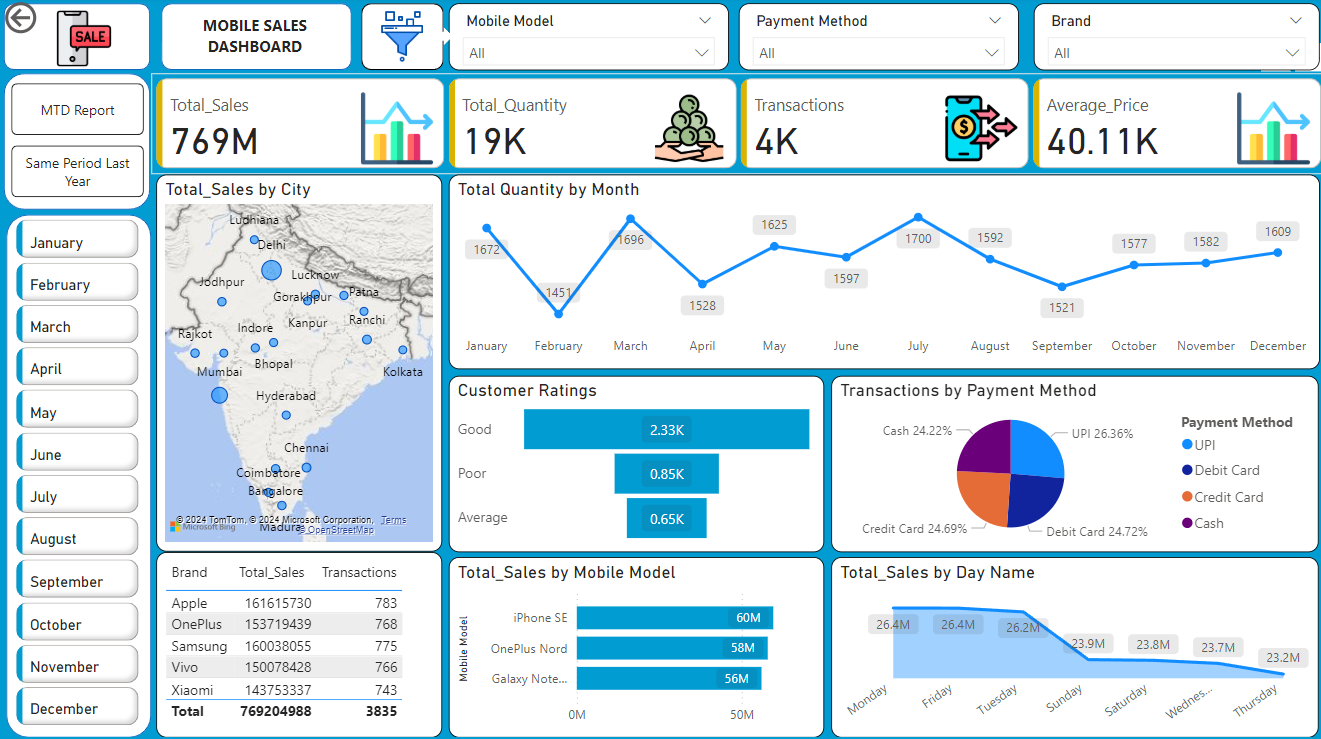

The dashboard page shown, as its layout file describes it:
{"tool":"powerbi","page":{"name":"Dashboard","canvas":[1280,720],"ordinal":0},"visuals":[{"type":"shape","box":[4.1,5.5,141.3,64.5],"z":0},{"type":"shape","box":[4.1,74.1,141.3,131.7],"z":1000},{"type":"shape","box":[5.5,209.9,140,505],"z":2000},{"type":"advancedSlicerVisual","fields":{"Values":["Custon_Calandar.Date.Variation.Date Hierarchy.Month"]},"box":[11,209.9,129,500.9],"z":3000},{"type":"cardVisual","fields":{"Data":["Sales_Data.Total_Sales","Sales_Data.Total_Quantity","Sales_Data.Transactions","Sales_Data.Average_Price"]},"box":[145.5,74.1,1134.8,97.4],"z":4000},{"type":"slicer","fields":{"Values":["Sales_Data.Mobile Model"]},"box":[433.6,5.5,270.3,64.5],"z":5000},{"type":"shape","box":[348.5,5.5,79.6,64.5],"z":6000},{"type":"slicer","fields":{"Values":["Sales_Data.Payment Method"]},"box":[713.6,5.5,270.3,64.5],"z":7000},{"type":"slicer","fields":{"Values":["Sales_Data.Brand"]},"box":[997.6,5.5,275.8,64.5],"z":8000},{"type":"image","box":[321.1,8.2,134.5,59],"z":9000},{"type":"shape","box":[414.4,28.8,23.3,17.8],"z":10000},{"type":"shape","box":[155.1,5.5,183.9,64.5],"z":11000},{"type":"textbox","box":[171.5,12.3,149.6,52.1],"z":12000},{"type":"map","fields":{"Category":["Sales_Data.City"],"Size":["Sales_Data.Total_Sales"]},"box":[150.9,171.5,275.8,363.6],"z":13000},{"type":"lineChart","title":"Total Quantity by Month","fields":{"Y":["Sales_Data.Total_Quantity"],"Category":["Custon_Calandar.Date.Variation.Date Hierarchy.Month"]},"box":[433.6,171.5,841.2,188],"z":14000},{"type":"funnel","title":"Customer Ratings","fields":{"Y":["CountNonNull(Sales_Data.Customer Ratings)"],"Category":["Sales_Data.Rating Status"]},"box":[433.6,365,362.3,170.2],"z":15000},{"type":"pieChart","fields":{"Y":["Sales_Data.Transactions"],"Category":["Sales_Data.Payment Method"]},"box":[802.7,365,470.7,170.2],"z":16000},{"type":"clusteredBarChart","fields":{"Y":["Sales_Data.Total_Sales"],"Category":["Sales_Data.Mobile Model"]},"box":[433.6,540.7,362.3,174.3],"z":17000},{"type":"areaChart","fields":{"Y":["Sales_Data.Total_Sales"],"Category":["Custon_Calandar.Day Name"]},"box":[802.7,540.7,470.7,174.3],"z":18000},{"type":"tableEx","fields":{"Values":["Sales_Data.Brand","Sales_Data.Total_Sales","Sales_Data.Transactions"]},"box":[151,536,276,179],"z":19000},{"type":"actionButton","box":[0,0,100,40],"z":20000},{"type":"pageNavigator","box":[11,83.7,129,111.1],"z":20001},{"type":"image","box":[49.4,8.2,63.1,63.1],"z":20002}]}

Visuals, with their boxes in screenshot pixels (x1, y1, x2, y2), scaled from the page's 1280x720 canvas onto the 1321x739 screenshot:
shape: (x1=4, y1=6, x2=150, y2=72)
shape: (x1=4, y1=76, x2=150, y2=211)
shape: (x1=6, y1=215, x2=150, y2=734)
advancedSlicerVisual - Custon_Calandar.Date.Variation.Date Hierarchy.Month: (x1=11, y1=215, x2=144, y2=730)
cardVisual - Sales_Data.Total_Sales x Sales_Data.Total_Quantity: (x1=150, y1=76, x2=1320, y2=176)
slicer - Sales_Data.Mobile Model: (x1=447, y1=6, x2=726, y2=72)
shape: (x1=360, y1=6, x2=442, y2=72)
slicer - Sales_Data.Payment Method: (x1=736, y1=6, x2=1015, y2=72)
slicer - Sales_Data.Brand: (x1=1030, y1=6, x2=1314, y2=72)
image: (x1=331, y1=8, x2=470, y2=69)
shape: (x1=428, y1=30, x2=452, y2=48)
shape: (x1=160, y1=6, x2=350, y2=72)
textbox: (x1=177, y1=13, x2=331, y2=66)
map - Sales_Data.City x Sales_Data.Total_Sales: (x1=156, y1=176, x2=440, y2=549)
"Total Quantity by Month" lineChart: (x1=447, y1=176, x2=1316, y2=369)
"Customer Ratings" funnel: (x1=447, y1=375, x2=821, y2=549)
pieChart - Sales_Data.Transactions x Sales_Data.Payment Method: (x1=828, y1=375, x2=1314, y2=549)
clusteredBarChart - Sales_Data.Total_Sales x Sales_Data.Mobile Model: (x1=447, y1=555, x2=821, y2=734)
areaChart - Sales_Data.Total_Sales x Custon_Calandar.Day Name: (x1=828, y1=555, x2=1314, y2=734)
tableEx - Sales_Data.Brand x Sales_Data.Total_Sales: (x1=156, y1=550, x2=441, y2=734)
actionButton: (x1=0, y1=0, x2=103, y2=41)
pageNavigator: (x1=11, y1=86, x2=144, y2=200)
image: (x1=51, y1=8, x2=116, y2=73)
